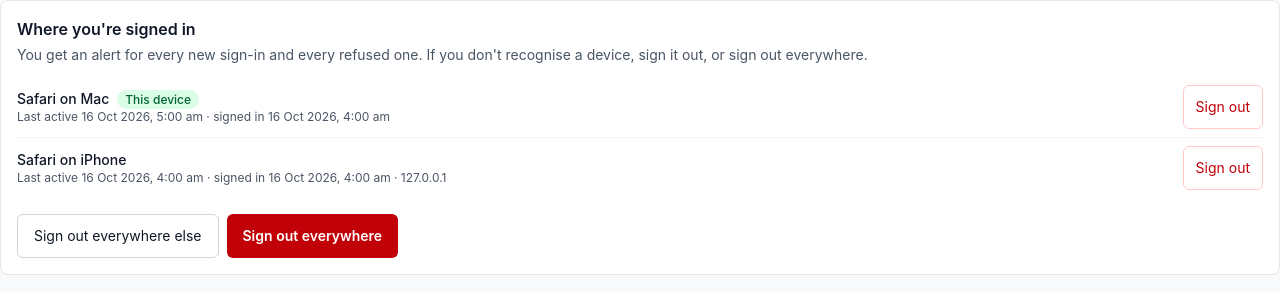
Test: SecuritySessions › signing out another device revokes it and says so
The width and height of the screenshot is (1280, 292).
Click the button "Sign out" in the row of "Safari on iPhone" at (1223, 168), box [1183,146,1263,190]
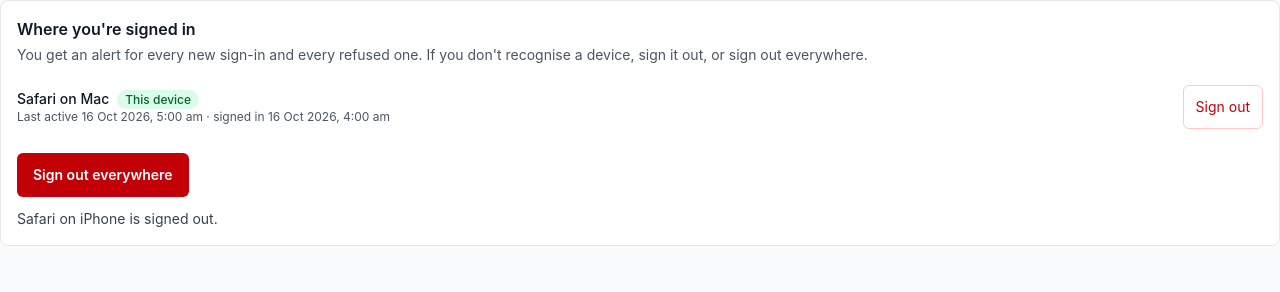
Expected: the message reads "Safari on iPhone is signed out.", [17,210,218,227]
